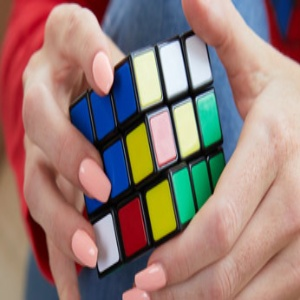cube: (67, 28, 228, 275)
